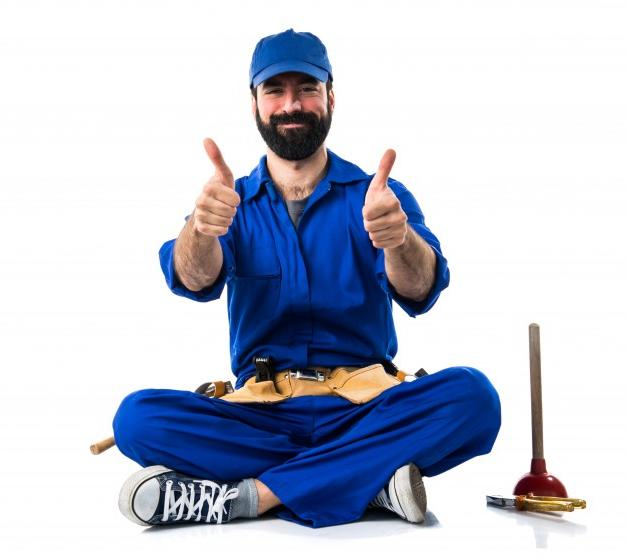thumbsup: (194, 138, 241, 235), (362, 149, 408, 248)
